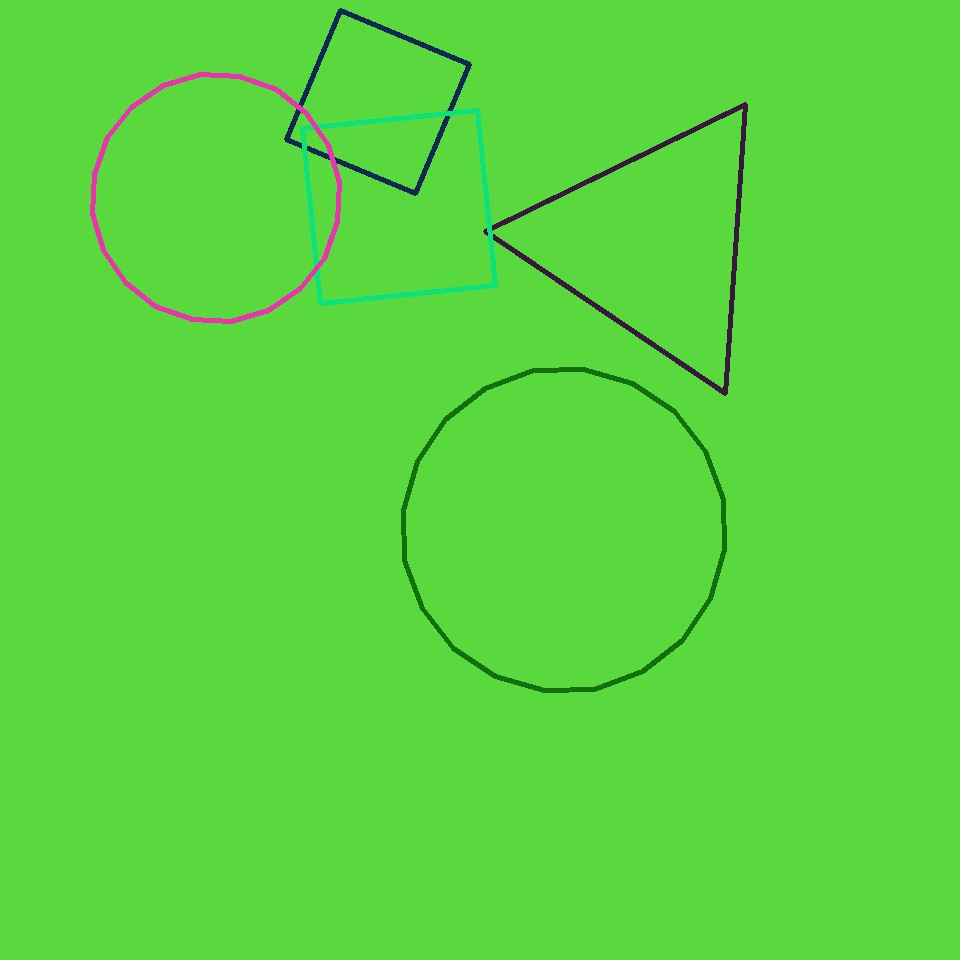circle: (522, 98, 782, 388)
square: (302, 110, 496, 304), (286, 11, 469, 193)
triangle: (404, 370, 724, 690), (93, 74, 340, 321)
